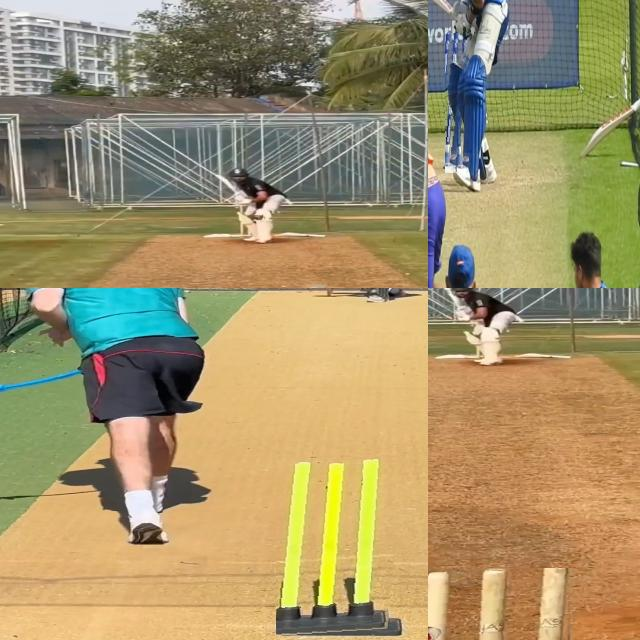Cricket ball: (428, 568, 575, 640), (254, 214, 264, 221)
Stumps: (276, 459, 405, 637), (445, 29, 471, 174)
